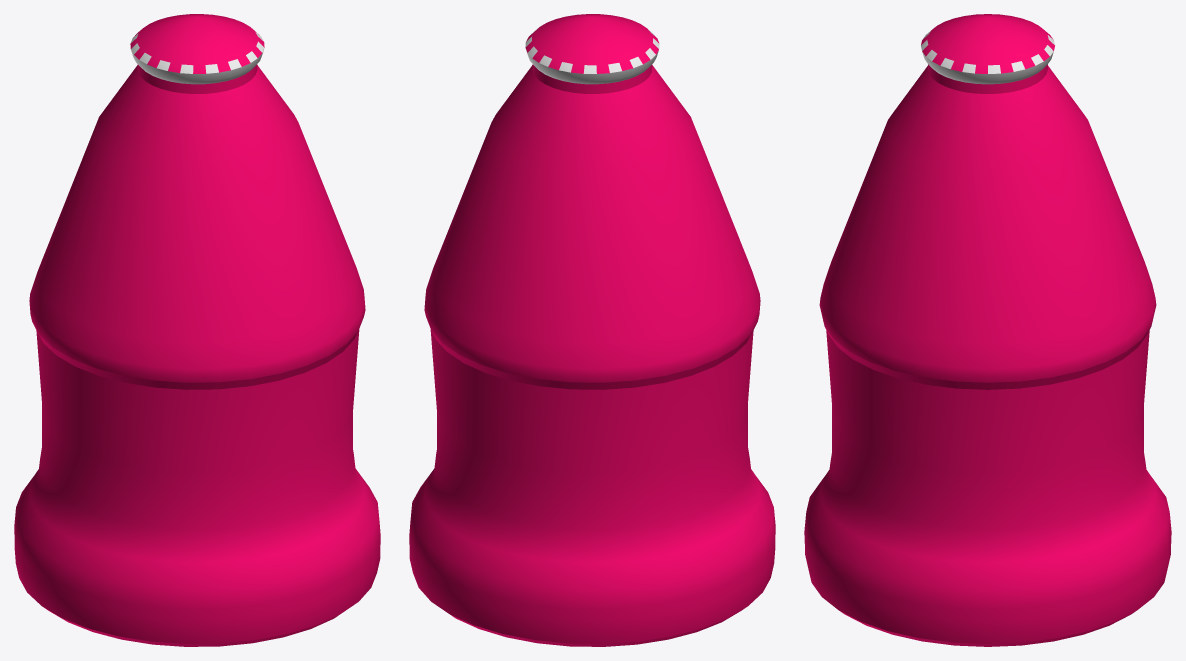
The model's file is bottle31.glb.
The picture shows the model from 3 angles, left to right: view 1: azimuth 30°, elevation 25°; view 2: azimuth 150°, elevation 25°; view 3: azimuth 270°, elevation 25°; orthographic projection.
Visible parts, largest first — view 1: Bottle31; view 2: Bottle31; view 3: Bottle31.
Part boxes in pixels (x1,y1,x2,y2): Bottle31: [14, 14, 380, 646]; Bottle31: [409, 14, 775, 646]; Bottle31: [804, 14, 1171, 646].
Bounding box in the file's own units: 0.8073 × 1.36 × 0.8073.
